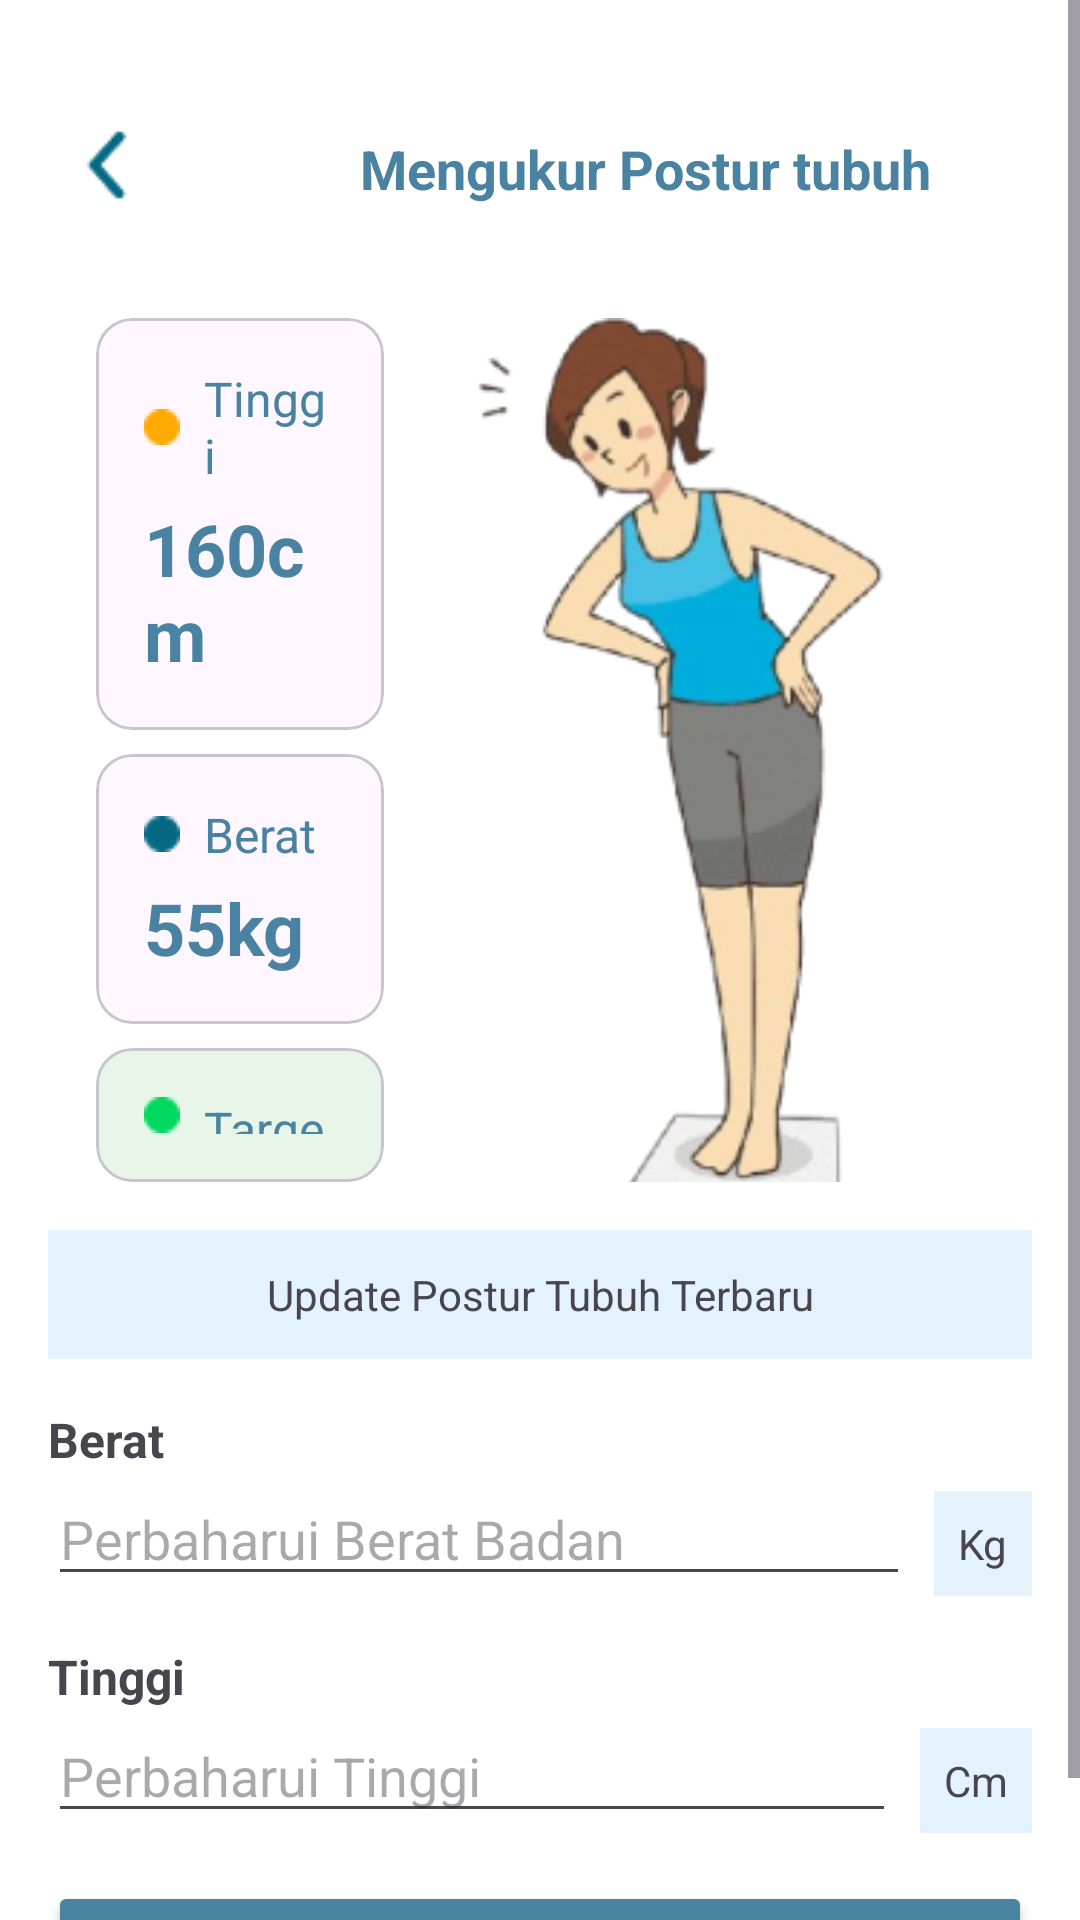

Icons on this 1080w x 1920h Android screen, each with its box as (x1, y1, x2, y2):
back: (87, 131, 127, 199)
